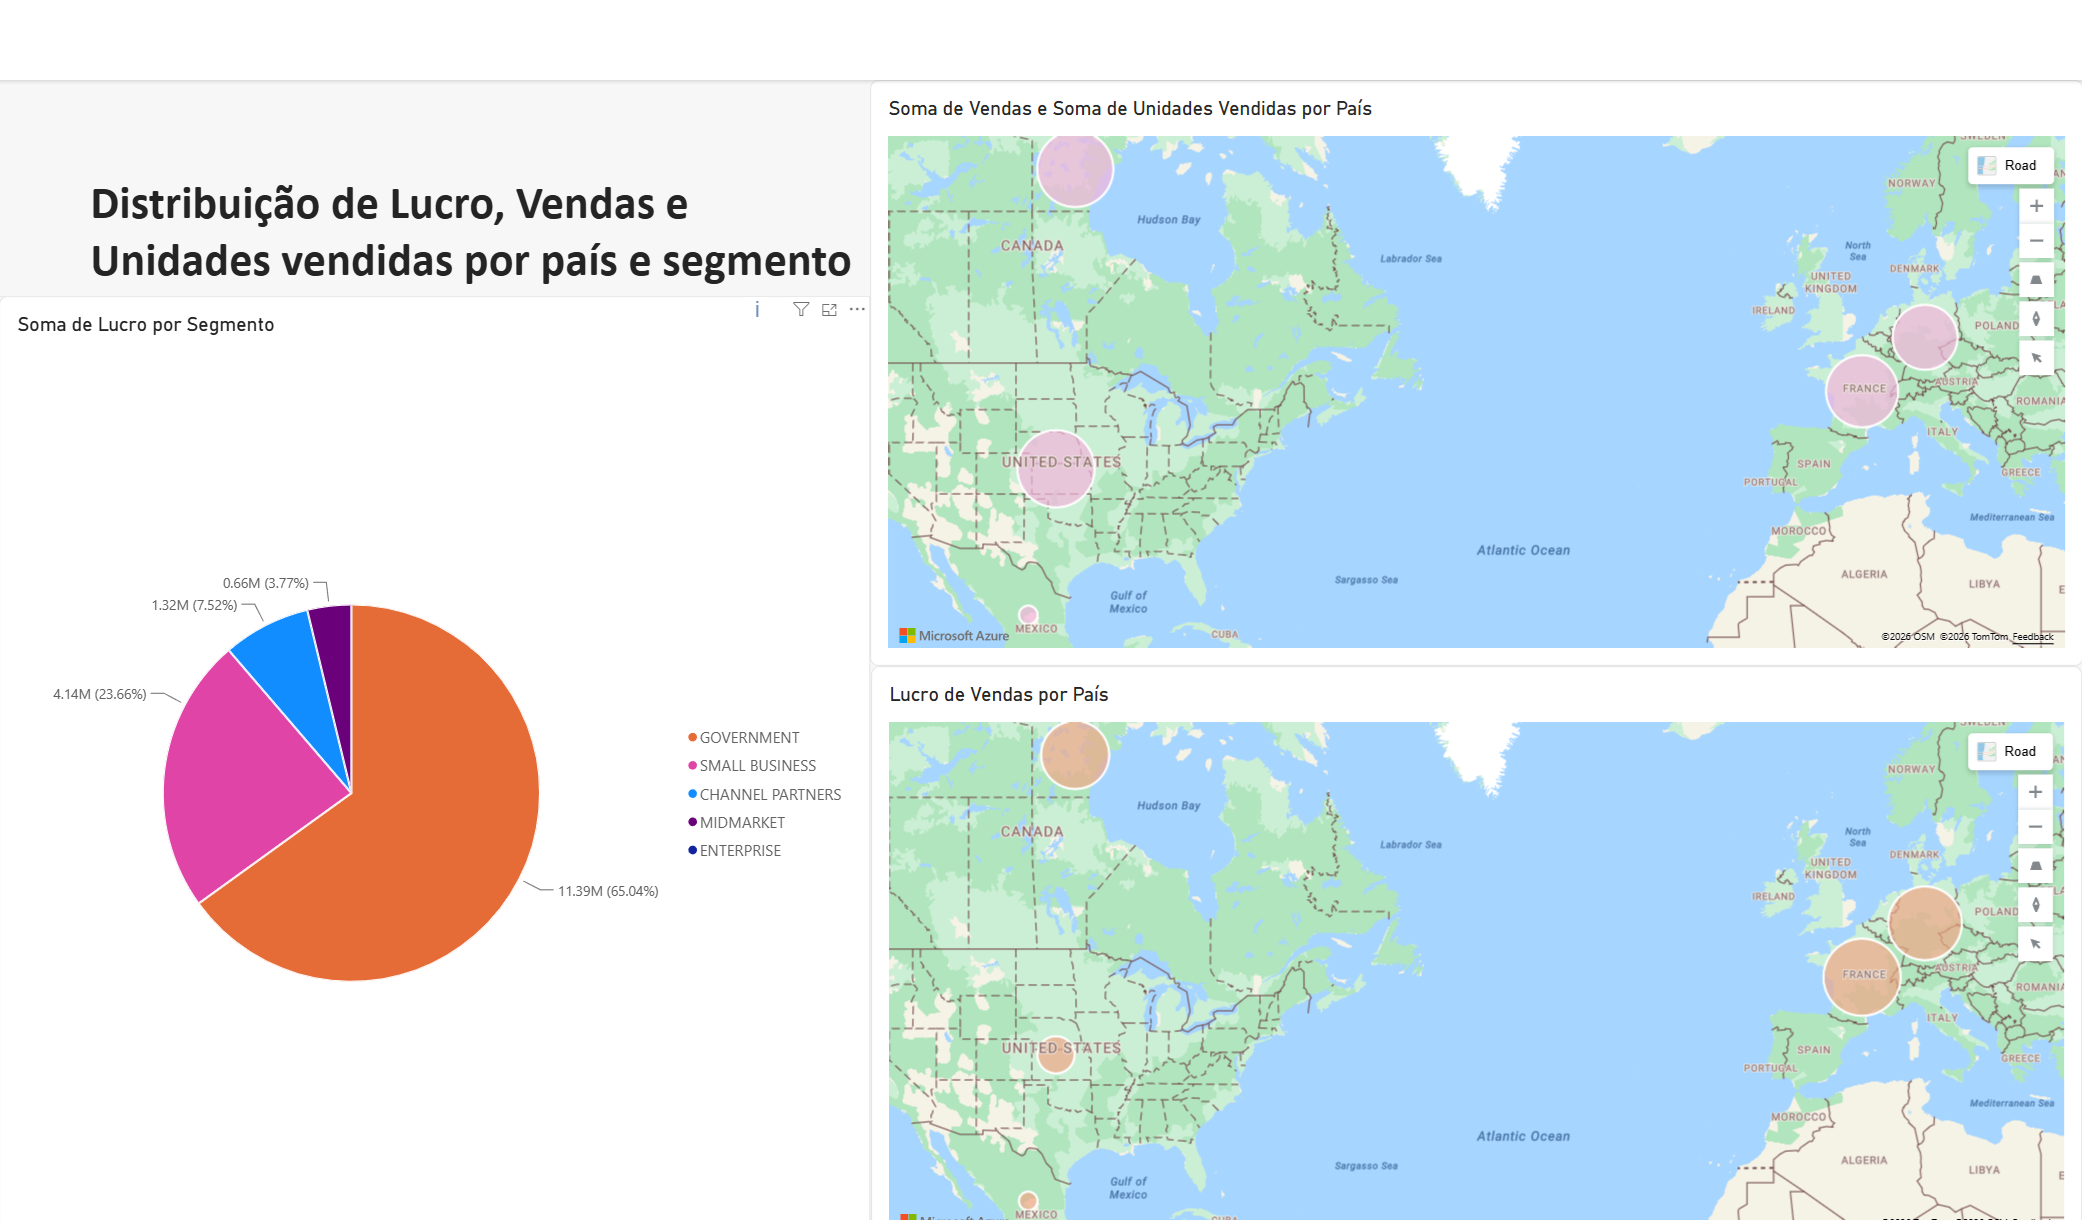

The page's visual inventory and layout, read from the dashboard file:
{"tool":"powerbi","page":{"name":"Page 3","canvas":[1920,1080],"ordinal":2},"visuals":[{"type":"pieChart","title":"Soma de Lucro por Segmento","fields":{"Category":["financials.Segment"],"Y":["Sum(financials.Profit)"]},"box":[0,198.8,802.5,881.2],"z":0},{"type":"azureMap","title":"Soma de Vendas e Soma de Unidades Vendidas por País","fields":{"Category":["financials.Country"],"Size":["Sum(financials.Sales)"]},"box":[802.5,0,1117.5,540],"z":1000},{"type":"azureMap","title":"Lucro de Vendas por País","fields":{"Category":["financials.Country"],"Size":["Sum(financials.Profit)"]},"box":[803.8,540,1116.2,540],"z":2000},{"type":"textbox","box":[0,86.2,791.2,137.5],"z":3000}]}

Visuals, with their boxes on the page's 1920x1080 design canvas (x1, y1, x2, y2). These are canvas units, not pixel positions in the 2082x1220 screenshot, which may show the page scaled, cropped or inside an application window:
"Soma de Lucro por Segmento" pieChart: 0:199:802:1080
"Soma de Vendas e Soma de Unidades Vendidas por País" azureMap: 802:0:1920:540
"Lucro de Vendas por País" azureMap: 804:540:1920:1080
textbox: 0:86:791:224
